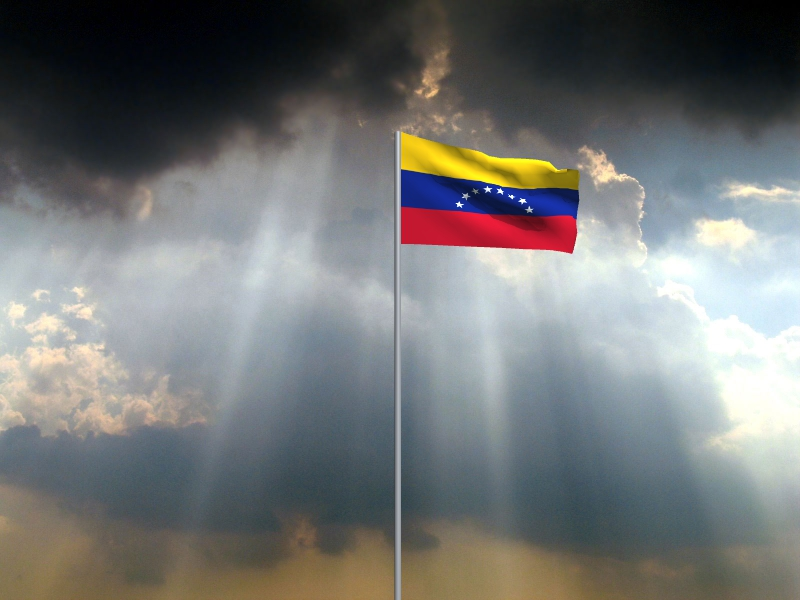ve: (401, 134, 581, 255)
